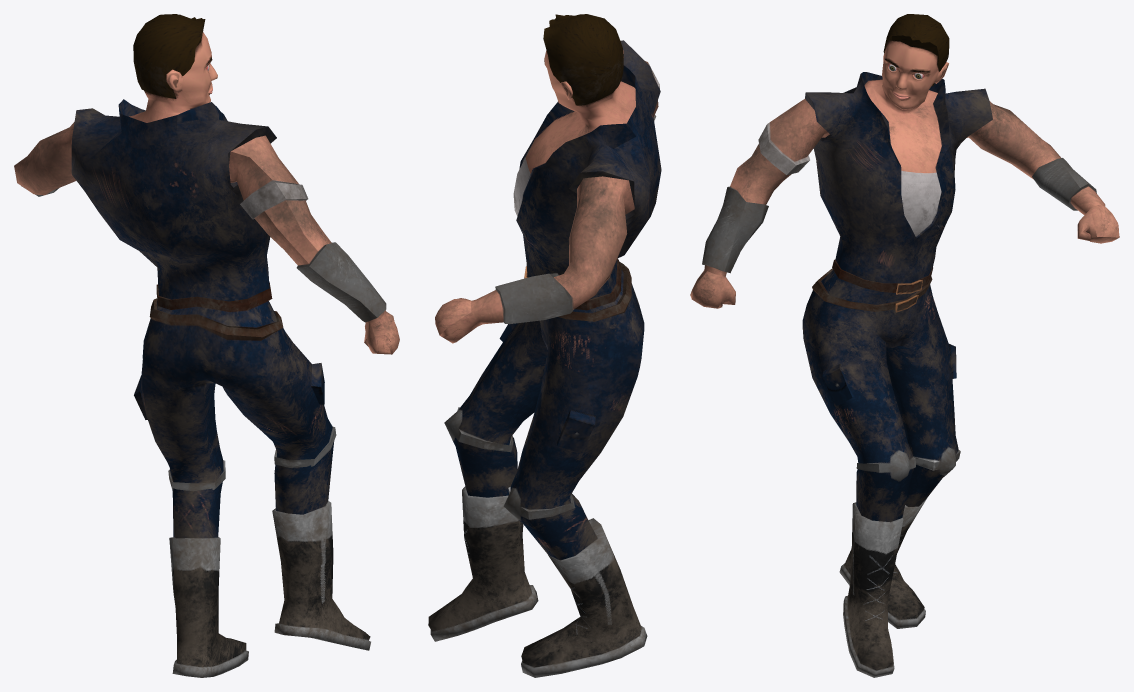
File: Anim_ataque_f1_jugador.0026.obj
3 views of the same model, side by side, from view 1: azimuth 30°, elevation 25°; view 2: azimuth 150°, elevation 25°; view 3: azimuth 270°, elevation 25° (orthographic). The views are drawn at different scales.
Visible parts, largest first — view 1: polySurface1; view 2: polySurface1; view 3: polySurface1.
Boxes of the visible parts, bbox=[...] form: polySurface1: bbox=[14, 14, 399, 677]; polySurface1: bbox=[428, 14, 661, 677]; polySurface1: bbox=[690, 14, 1119, 677].
Size of the model in its own units: 3.89 by 9.45 by 6.26.
